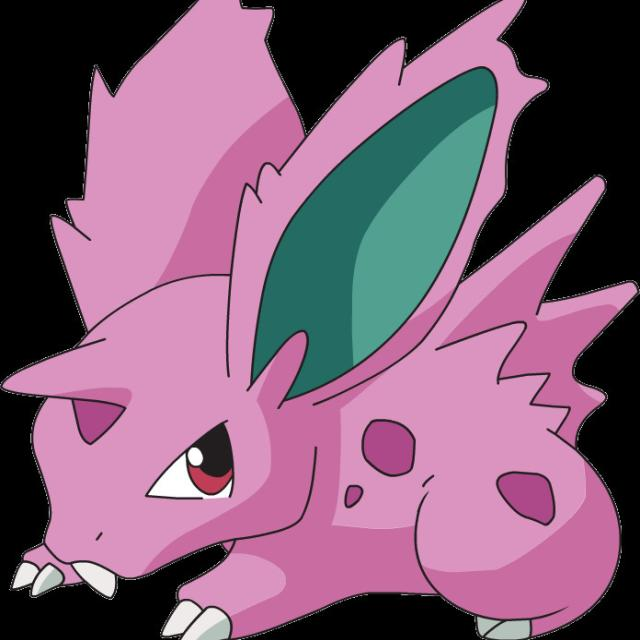Nidorino: (5, 0, 640, 640)
